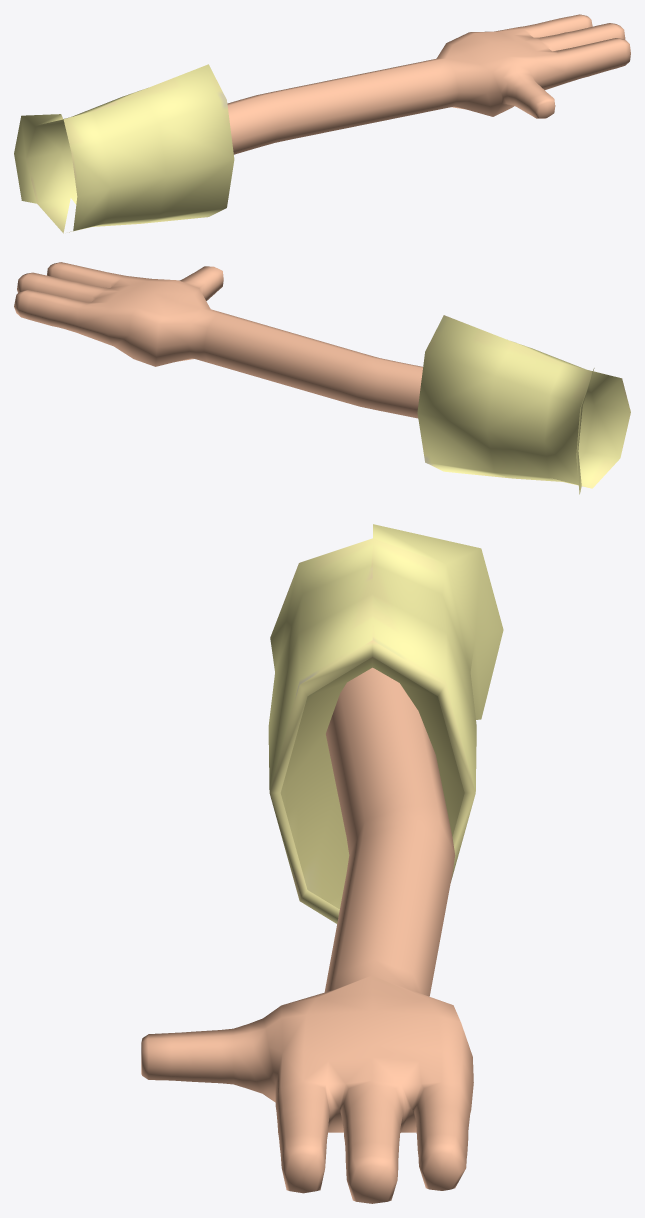
Rendered from Brazo_izquierdoFerb.obj.
3 renders of one model, top to bottom at view 1: azimuth 30°, elevation 25°; view 2: azimuth 150°, elevation 25°; view 3: azimuth 270°, elevation 25°, orthographic. The views are drawn at different scales.
Parts seen in each view (by area): view 1: Brazo_Izquierda; view 2: Brazo_Izquierda; view 3: Brazo_Izquierda.
Part boxes in pixels (x1,y1,x2,y2): Brazo_Izquierda: (14, 14, 630, 233); Brazo_Izquierda: (14, 262, 630, 494); Brazo_Izquierda: (141, 524, 503, 1203).
Size of the model in its own units: 0.4055 by 0.1032 by 0.1108.
